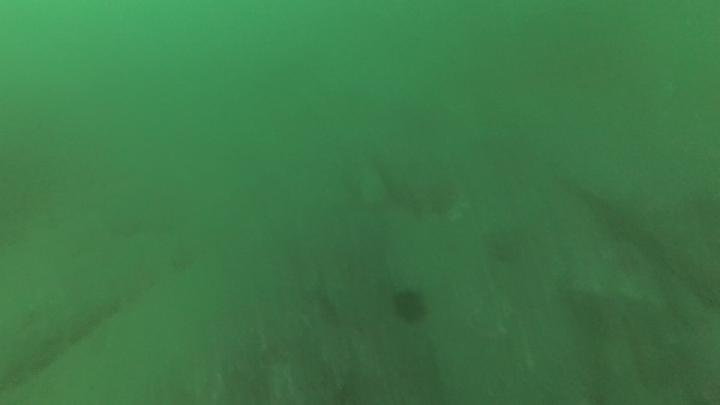echinus: (389, 285, 431, 327)
